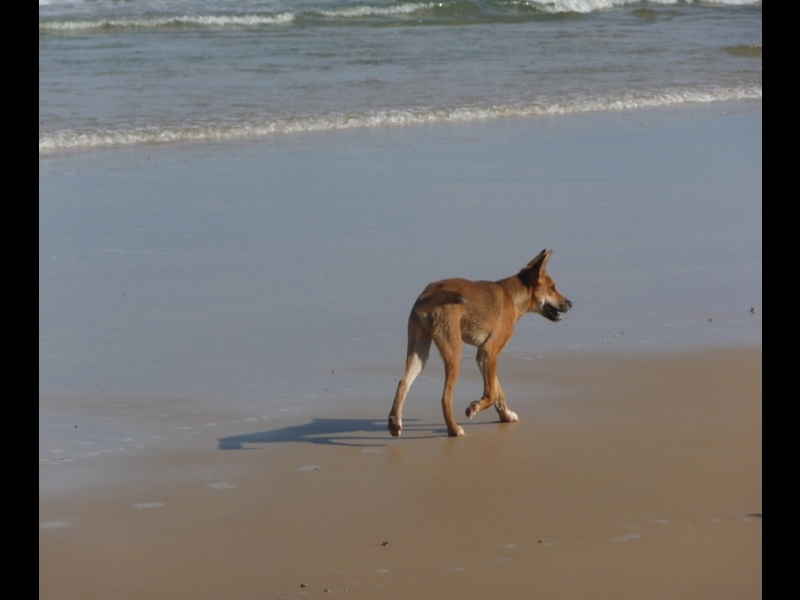dog: (383, 244, 572, 445)
